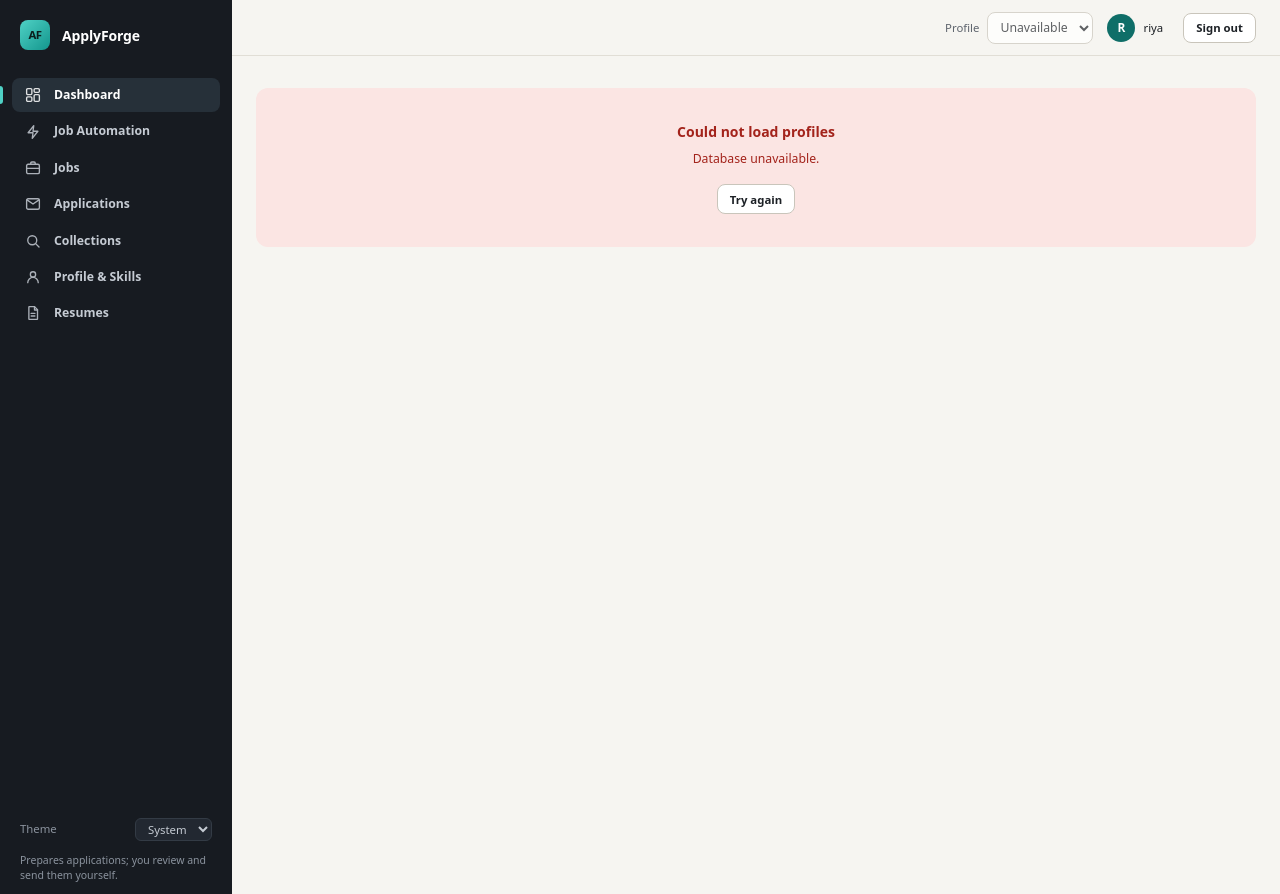
it: active profile in the app › a profile-loading error is shown with a working retry
Expected: the text "Could not load profiles" is shown, [677,122,835,141]
Expected: the message shows "Database unavailable.", [693,150,819,167]
Click the button "Try again": [756, 199] box [717,184,795,214]
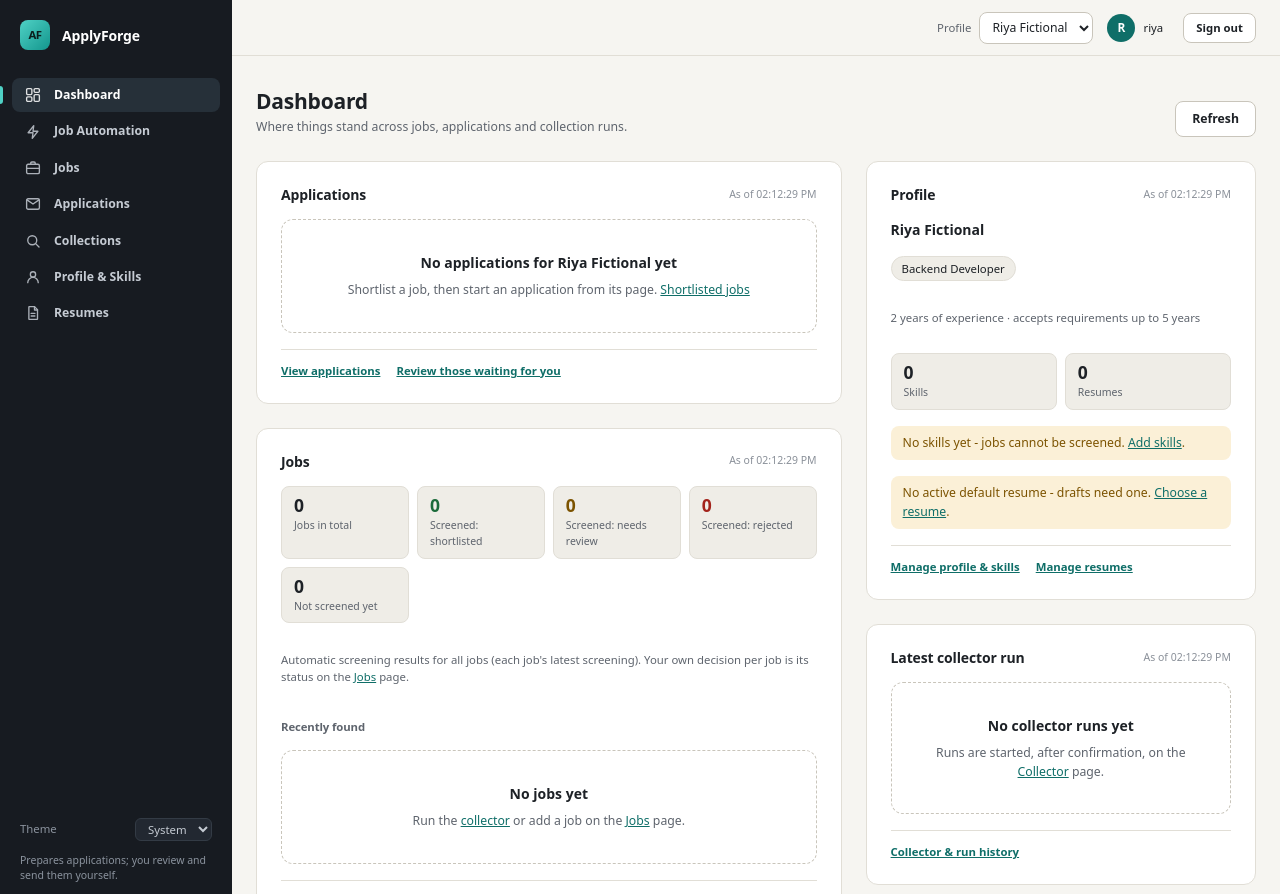
Now the heading "Dashboard" is shown, box [256,87,368,115]
